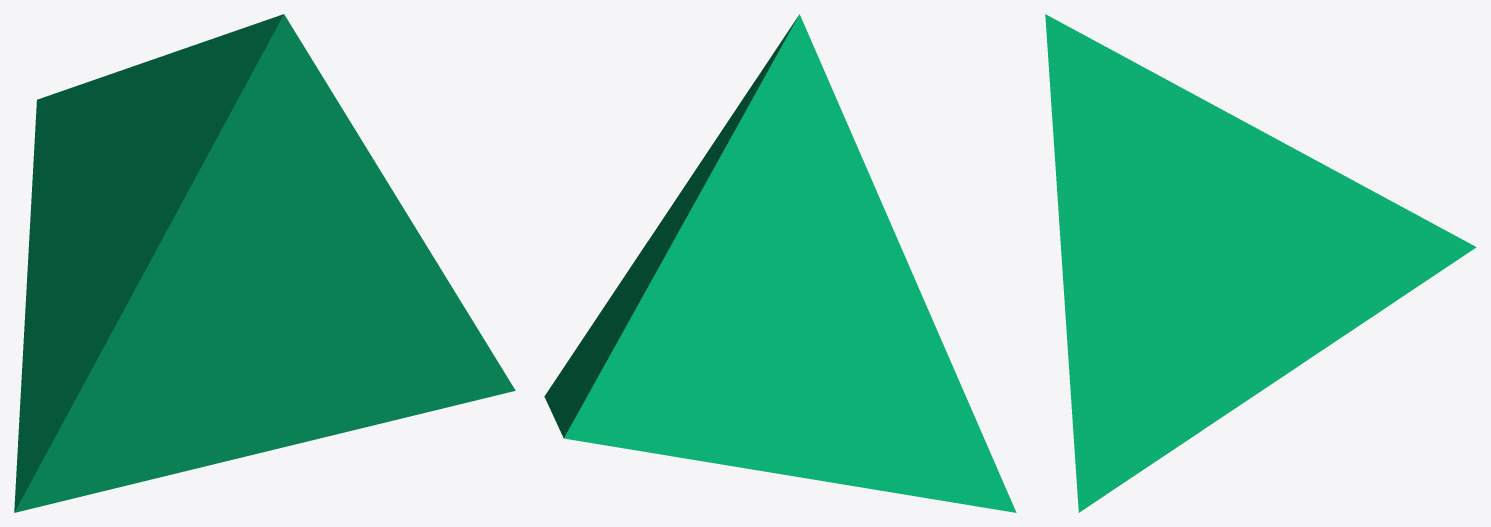
File: tetraedre.glb
3 views of the same model, side by side, from view 1: azimuth 30°, elevation 25°; view 2: azimuth 150°, elevation 25°; view 3: azimuth 270°, elevation 25° (orthographic). The views are drawn at different scales.
Parts seen in each view (by area): view 1: Mesh_Mesh_head_geo.001_lambert2SG.001; view 2: Mesh_Mesh_head_geo.001_lambert2SG.001; view 3: Mesh_Mesh_head_geo.001_lambert2SG.001.
Boxes of the visible parts, box(x1,y1,x2,y2) form: Mesh_Mesh_head_geo.001_lambert2SG.001: box(14, 14, 515, 512); Mesh_Mesh_head_geo.001_lambert2SG.001: box(544, 14, 1016, 512); Mesh_Mesh_head_geo.001_lambert2SG.001: box(1045, 14, 1476, 512).
Size of the model in its own units: 4.65 by 4.02 by 4.
